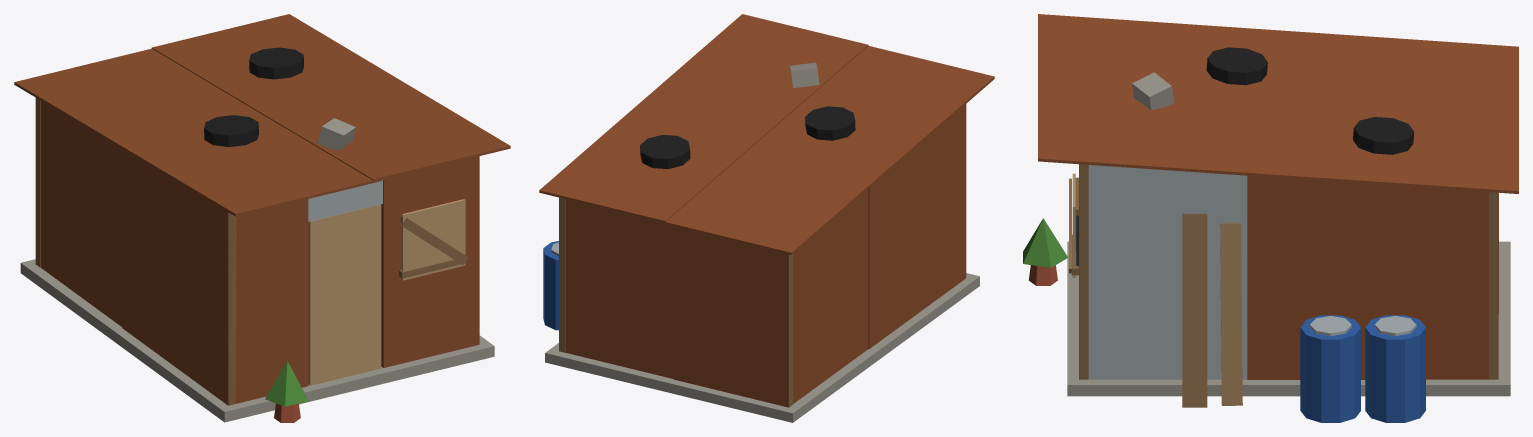
File: BAY_I_TinShack_J.glb
3 views of the same model, side by side, from view 1: azimuth 30°, elevation 25°; view 2: azimuth 150°, elevation 25°; view 3: azimuth 270°, elevation 25° (orthographic). The views are drawn at different scales.
Parts seen in each view (by area): view 1: BAY_I_TinShack_J; view 2: BAY_I_TinShack_J; view 3: BAY_I_TinShack_J.
Part boxes in pixels (x1,y1,x2,y2): BAY_I_TinShack_J: (14,14,510,422); BAY_I_TinShack_J: (539,14,994,422); BAY_I_TinShack_J: (1023,14,1518,422).
Size of the model in its own units: 3.88 by 2.68 by 4.74.
1 material, 1 textured.
